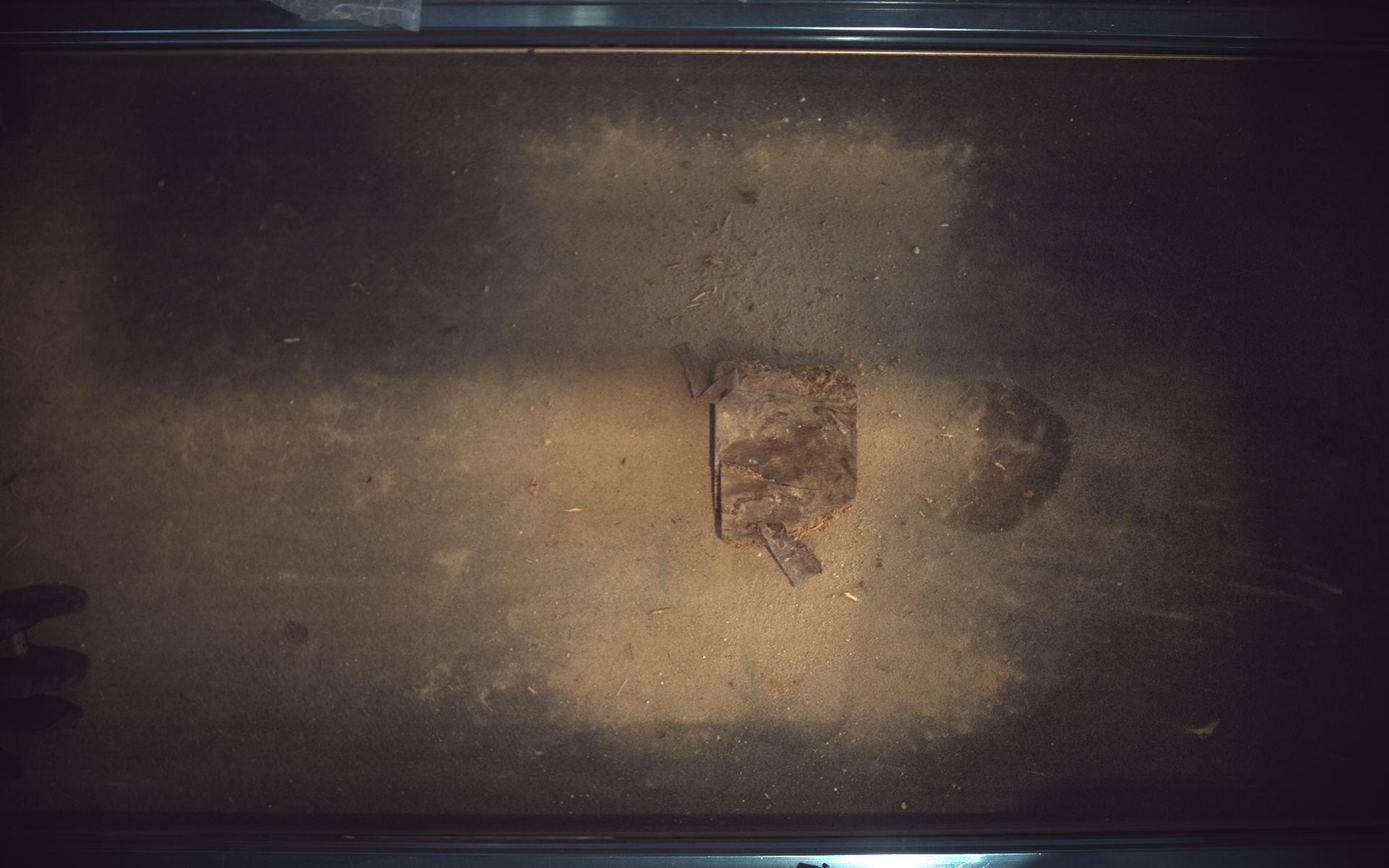wood: (676, 344, 859, 587)
